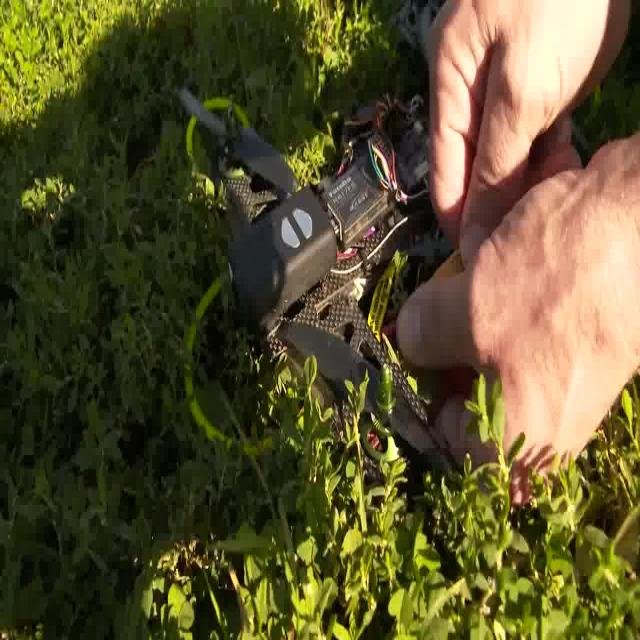drones: (168, 76, 434, 500)
